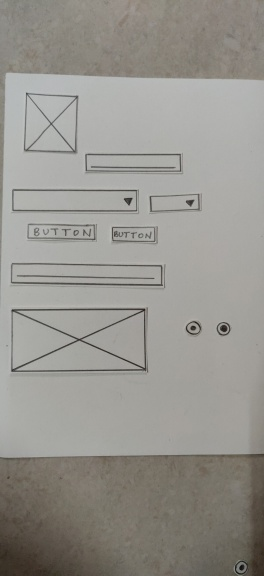button: (25, 221, 100, 244), (109, 225, 161, 246)
dropdown: (9, 187, 141, 217), (147, 191, 203, 215)
img: (6, 306, 150, 376), (21, 90, 81, 158)
radio: (182, 318, 203, 337), (216, 319, 231, 339)
text: (7, 259, 168, 292), (83, 151, 184, 176)
